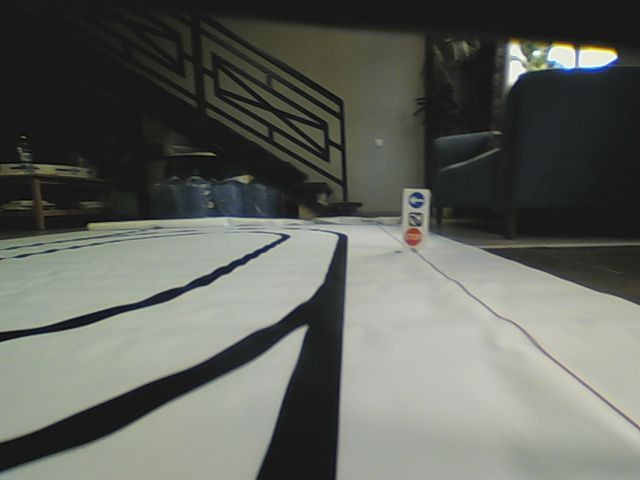Stop: (403, 225, 423, 247)
